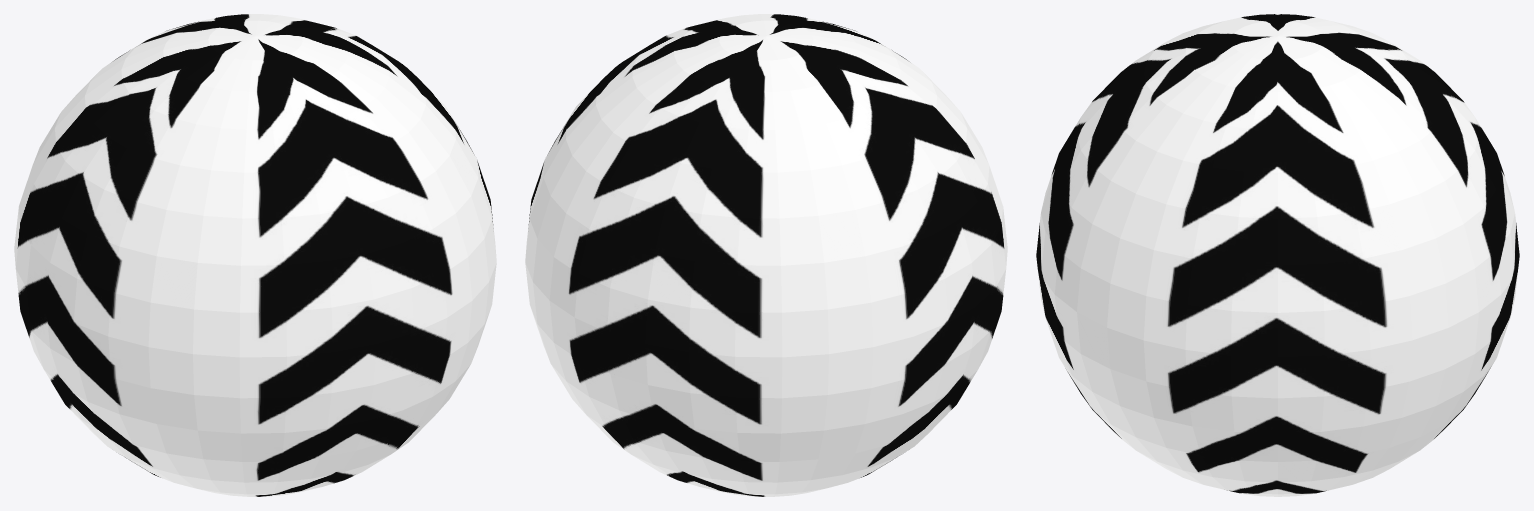
The model's file is SpeedyBall.glb.
3 renders of one model, left to right at view 1: azimuth 30°, elevation 25°; view 2: azimuth 150°, elevation 25°; view 3: azimuth 270°, elevation 25°, orthographic.
Visible parts, largest first — view 1: Sphere; view 2: Sphere; view 3: Sphere.
Boxes of the visible parts, box(x1,y1,x2,y2) form: Sphere: box(14, 14, 496, 496); Sphere: box(525, 14, 1007, 496); Sphere: box(1036, 14, 1519, 496).
Size of the model in its own units: 1 by 1 by 1.
Materials: 1 (1 with a texture image).
